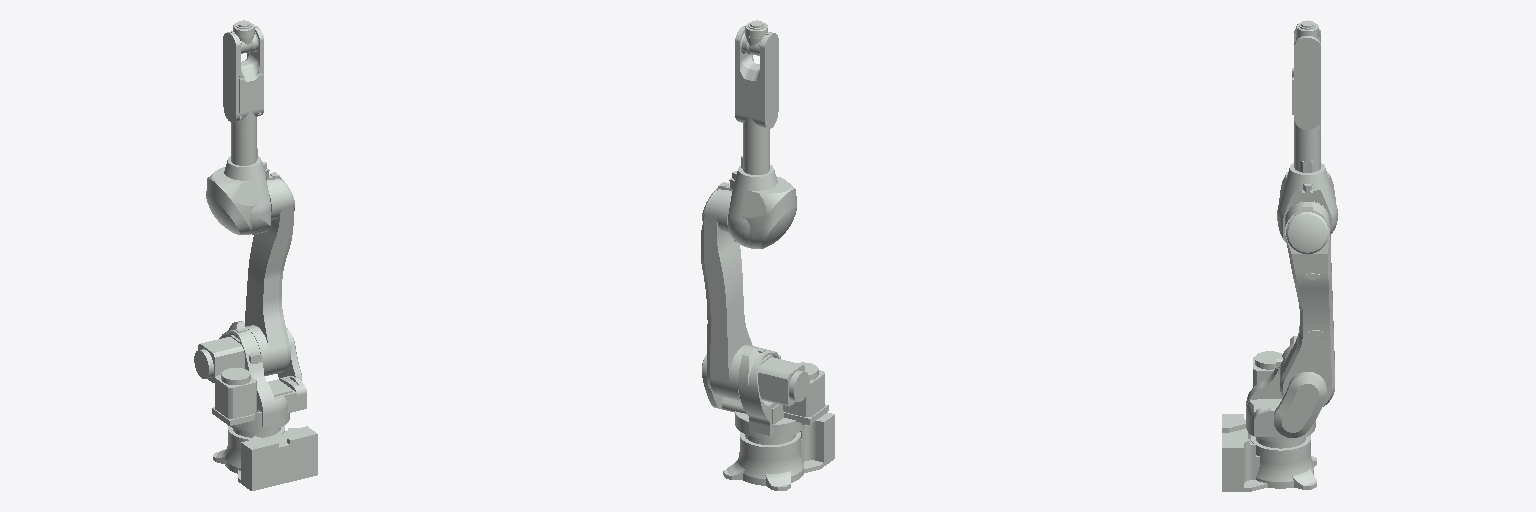
The robot description file, URDF, robot "kawasaki_rs010n":
<?xml version="1.0" encoding="utf-8"?>
<!-- =================================================================================== -->
<!-- |    This document was autogenerated by xacro from rs010n.xacro                   | -->
<!-- |    EDITING THIS FILE BY HAND IS NOT RECOMMENDED                                 | -->
<!-- =================================================================================== -->
<robot name="kawasaki_rs010n">
  <!-- Properties -->
  <material name="kawasaki_white">
    <color rgba="0.8392 0.8666 0.847 1"/>
  </material>
  <!-- link list -->
  <link name="base_link">
    <visual>
      <geometry>
        <mesh filename="./rs010n_meshes/base.stl"/>
      </geometry>
      <material name="kawasaki_white"/>
    </visual>
    <!-- <collision>
      <origin rpy="0 0 0" xyz="0 0 0.08"/>
      <geometry>
        <cylinder length="0.22" radius="0.2"/>
      </geometry>
    </collision> -->
  </link>
  <link name="link_1_s">
    <visual>
      <geometry>
        <mesh filename="./rs010n_meshes/swivel.stl"/>
      </geometry>
      <material name="kawasaki_white"/>
    </visual>
    <collision>
      <origin rpy="0 0 0" xyz="0 0 -0.08"/>
      <geometry>
        <cylinder length="0.35" radius="0.22"/>
      </geometry>
    </collision>
  </link>
  <link name="link_2_l">
    <visual>
      <geometry>
        <mesh filename="./rs010n_meshes/bicep.stl"/>
      </geometry>
      <material name="kawasaki_white"/>
    </visual>
    <collision>
      <origin rpy="0 0 0" xyz="0.08 0 0.35"/>
      <geometry>
        <cylinder length="0.8" radius="0.12"/>
      </geometry>
    </collision>
  </link>
  <link name="link_3_u">
    <visual>
      <geometry>
        <mesh filename="./rs010n_meshes/elbow.stl"/>
      </geometry>
      <material name="kawasaki_white"/>
    </visual>
    <collision>
      <origin rpy="0 0 0" xyz="-0.015 0 0.05"/>
      <geometry>
        <cylinder length="0.28" radius="0.139"/>
      </geometry>
    </collision>
  </link>
  <link name="link_4_r">
    <visual>
      <geometry>
        <mesh filename="./rs010n_meshes/forearm.stl"/>
      </geometry>
      <material name="kawasaki_white"/>
    </visual>
    <collision>
      <origin rpy="0 0 0" xyz="0 0 -0.235"/>
      <geometry>
        <cylinder length="0.5" radius="0.07"/>
      </geometry>
    </collision>
  </link>
  <link name="link_5_b">
    <visual>
      <geometry>
        <mesh filename="./rs010n_meshes/wrist.stl"/>
      </geometry>
      <material name="kawasaki_white"/>
    </visual>
    <collision>
      <origin rpy="0 0 0" xyz="0 0 0.01"/>
      <geometry>
        <cylinder length="0.1" radius="0.04"/>
      </geometry>
    </collision>
  </link>
  <link name="link_6_t">
    <visual>
      <origin rpy="0 0 0" xyz="0 0 0"/>
      <geometry>
        <mesh filename="./rs010n_meshes/tool_mount.stl"/>
      </geometry>
      <material name="kawasaki_white"/>
    </visual>
    <collision>
      <origin rpy="0 0 0" xyz="0 0 -0.01"/>
      <geometry>
        <cylinder length="0.02" radius="0.043"/>
      </geometry>
    </collision>
  </link>
  <link name="tool0"/>
  <!-- end of link list -->
  <!-- joint list -->
  <joint name="joint_1_s" type="revolute">
    <parent link="base_link"/>
    <child link="link_1_s"/>
    <origin rpy="0 0 0" xyz="0 0 0.430"/>
    <axis xyz="0 0 1"/>
    <!-- Efforts are not accurate! -->
    <limit effort="1000.0" lower="-3.142" upper="3.142" velocity="4.363"/>
  </joint>
  <joint name="joint_2_l" type="revolute">
    <parent link="link_1_s"/>
    <child link="link_2_l"/>
    <origin rpy="0 0 0" xyz="0.0 0.1 0.0"/>
    <axis xyz="-1 0 0"/>
    <!-- Efforts are not accurate! -->
    <limit effort="1000.0" lower="-1.833" upper="2.531" velocity="4.363"/>
  </joint>
  <joint name="joint_3_u" type="revolute">
    <parent link="link_2_l"/>
    <child link="link_3_u"/>
    <origin rpy="0 0 0" xyz="0 0 0.65"/>
    <axis xyz="1 0 0"/>
    <!-- Efforts are not accurate! -->
    <limit effort="1000.0" lower="-2.845" upper="2.618" velocity="3.752"/>
  </joint>
  <joint name="joint_4_r" type="revolute">
    <parent link="link_3_u"/>
    <child link="link_4_r"/>
    <origin rpy="0 0 0" xyz="0.00 0 0.7"/>
    <axis xyz="0 0 1"/>
    <!-- Efforts are not accurate! -->
    <limit effort="1000.0" lower="-4.712" upper="4.712" velocity="6.370"/>
  </joint>
  <joint name="joint_5_b" type="revolute">
    <parent link="link_4_r"/>
    <child link="link_5_b"/>
    <origin rpy="0 0 0" xyz="0 0 0"/>
    <axis xyz="1 0 0"/>
    <!-- Efforts are not accurate! -->
    <limit effort="1000.0" lower="-2.531" upper="2.531" velocity="6.632"/>
  </joint>
  <joint name="joint_6_t" type="revolute">
    <parent link="link_5_b"/>
    <child link="link_6_t"/>
    <origin rpy="0 0 0" xyz="0 0 0.085"/>
    <axis xyz="0 0 1"/>
    <!-- Efforts are not accurate! -->
    <limit effort="1000.0" lower="-6.283" upper="6.283" velocity="12.217"/>
  </joint>
  <joint name="joint_6_t-tool0" type="fixed">
    <origin rpy="3.1415926 -1.570796 0" xyz="0.100 0 0"/>
    <parent link="link_6_t"/>
    <child link="tool0"/>
  </joint>
  <!-- end of joint list -->
</robot>

--- What the picture shows (computed from the rendered views, not written in the file) ---
Views: 3 orthographic renders of the robot side by side, from view 1: azimuth 30°, elevation 25°; view 2: azimuth 150°, elevation 25°; view 3: azimuth 270°, elevation 25°.
Robot: kawasaki_rs010n — 8 links, 7 joints (6 revolute, 1 fixed); root link base_link; default pose: all joints at 0.
Visible links, largest first — view 1: link_1_s, link_2_l, base_link, link_4_r, link_3_u; view 2: link_2_l, link_1_s, link_4_r, base_link, link_3_u; view 3: link_2_l, link_1_s, base_link, link_4_r, link_3_u.
Boxes of the visible links, x1,y1,x2,y2 form: link_1_s: (194,321,306,431); link_2_l: (245,172,294,375); base_link: (213,425,317,490); link_4_r: (223,26,263,165); link_3_u: (206,156,270,234); link_2_l: (701,182,755,400); link_1_s: (702,347,828,438); link_4_r: (735,26,778,174); base_link: (723,412,834,490); link_3_u: (728,165,796,248); link_2_l: (1280,202,1334,406); link_1_s: (1246,336,1326,441); base_link: (1222,414,1316,491); link_4_r: (1292,29,1320,172); link_3_u: (1277,163,1337,241).
Bounding box of the posed robot: 0.401 × 0.4335 × 1.86 m (x, y, z).
7 mesh visuals loaded from 7 distinct referenced files (7 binary STL).